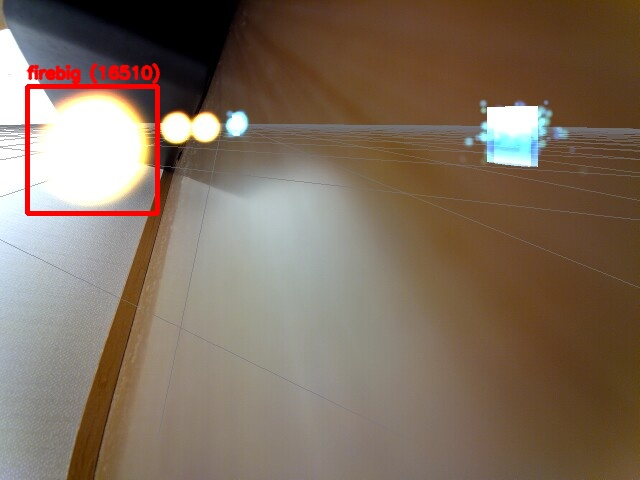firebig: (27, 86, 157, 213)
